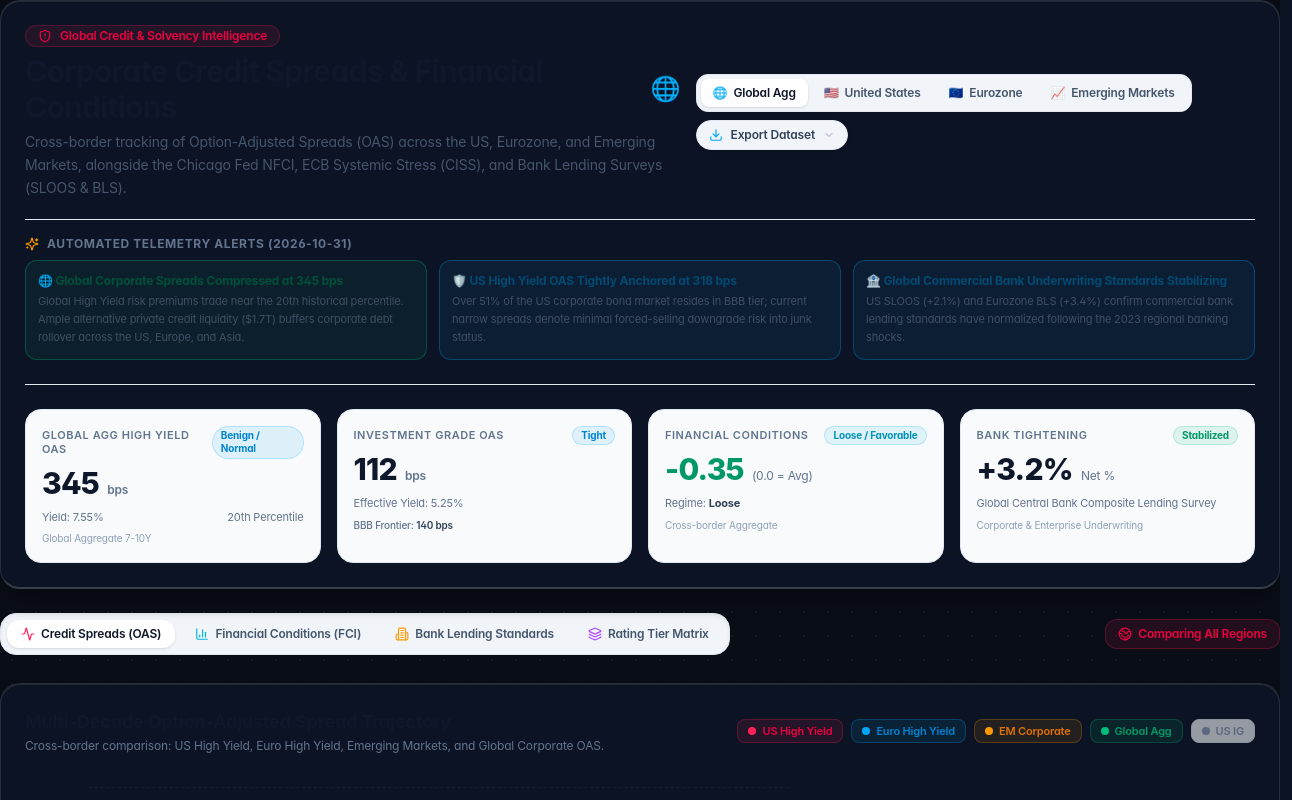
Scenario: CreditMarketRadar Component › switches active region and updates contextual indicators and notes
Click the button "🇪🇺 Eurozone": point(986, 93) x1=937 y1=79 x2=1034 y2=107
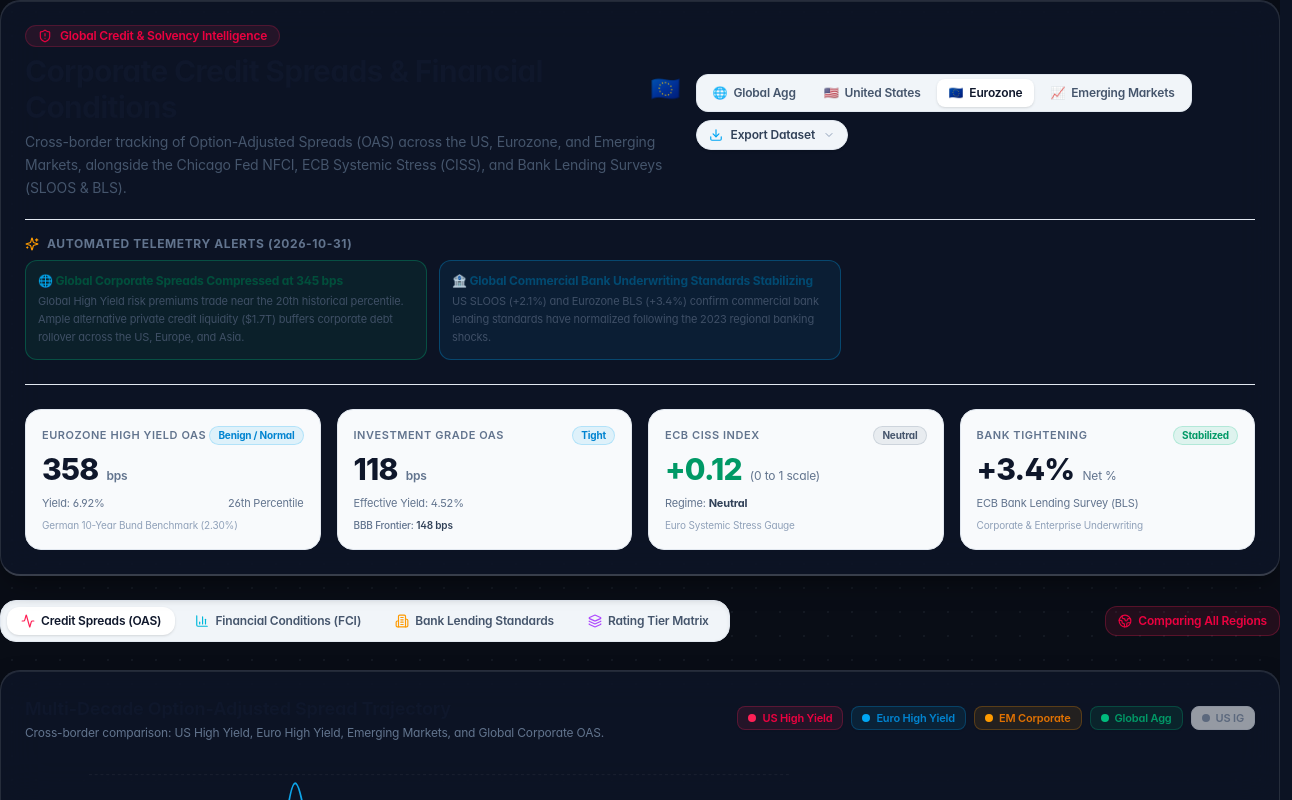
Check: the text "Eurozone High Yield OAS" is shown, box x1=42 y1=428 x2=206 y2=443
Check: the text "ECB CISS Index" is shown, box x1=665 y1=428 x2=760 y2=443
Check: the text "ECB Bank Lending Survey (BLS)" is shown, box x1=976 y1=496 x2=1139 y2=510
